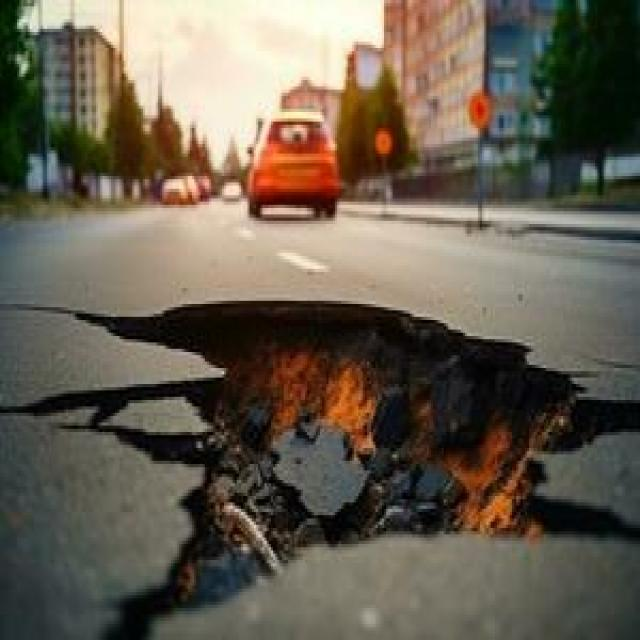road collapse: (125, 205, 640, 640)
